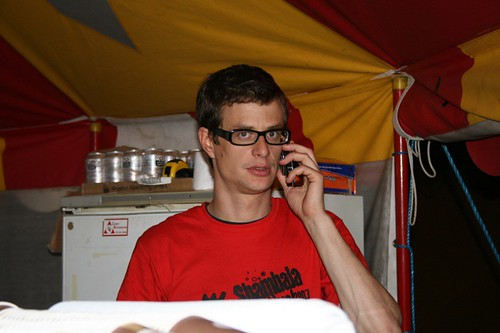phone: (276, 122, 308, 187)
talk: (218, 111, 329, 219)
